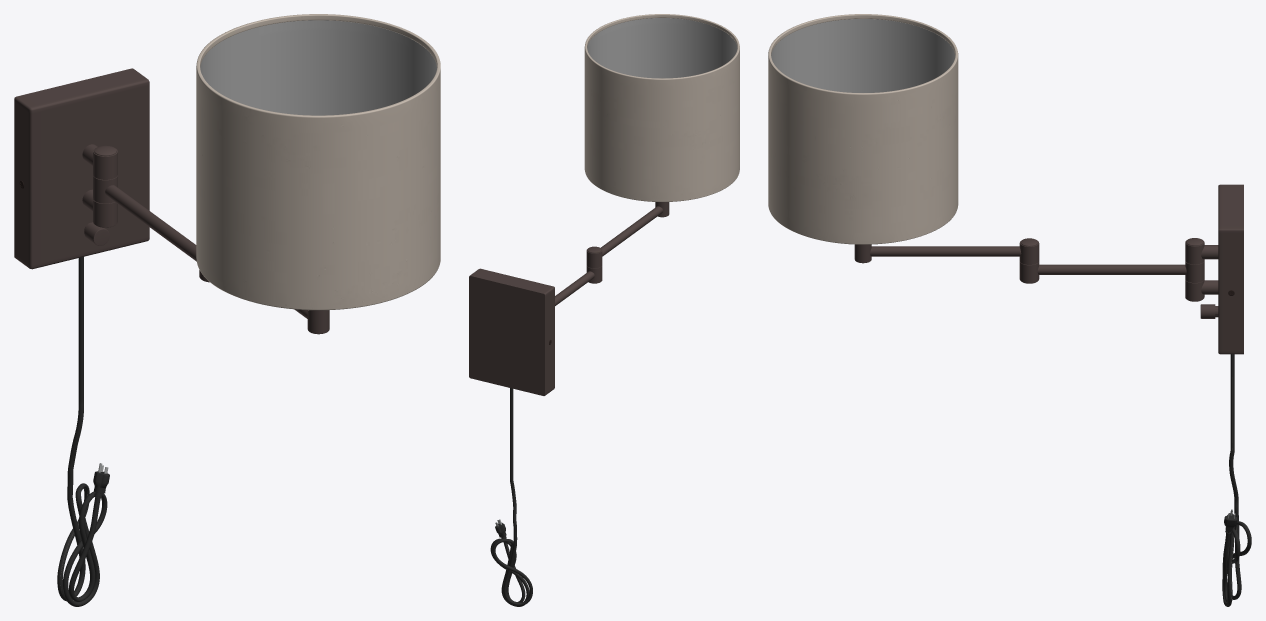
File: abo-B0828FN2YH.glb
3 renders of one model, left to right at view 1: azimuth 30°, elevation 25°; view 2: azimuth 150°, elevation 25°; view 3: azimuth 270°, elevation 25°, orthographic. The views are drawn at different scales.
Bounding box in the file's own units: 0.203 × 0.651 × 0.516.
1 material, 1 textured.
